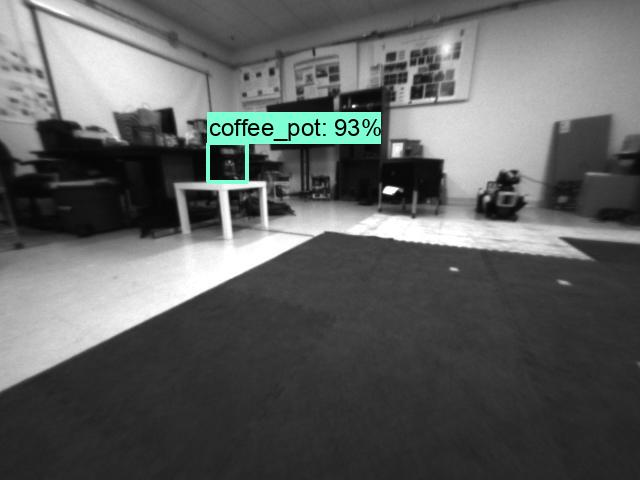coffee_pot: (210, 142, 245, 181)
